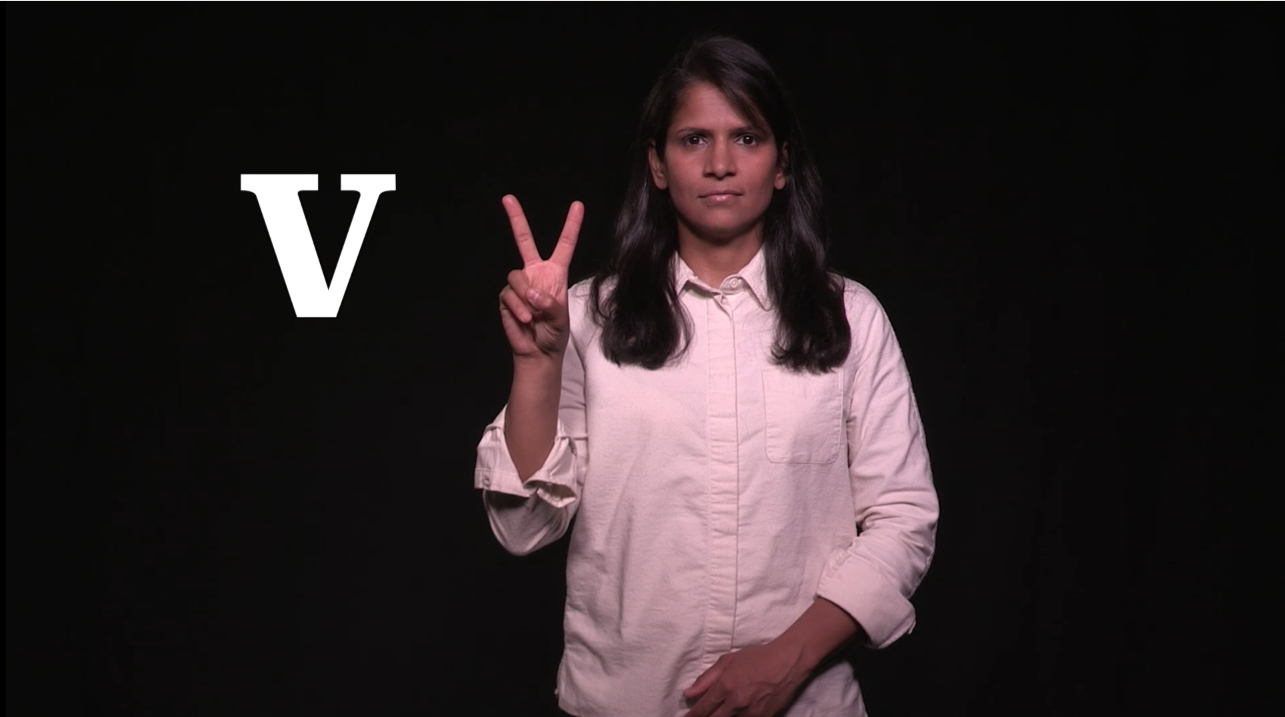v: (471, 176, 608, 375)
